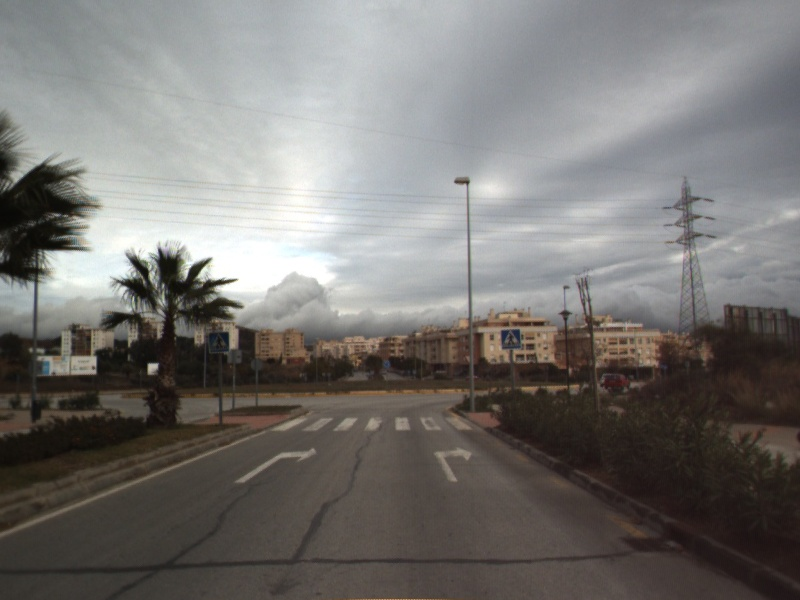RIGHT: (233, 446, 319, 485), (432, 445, 474, 484)
